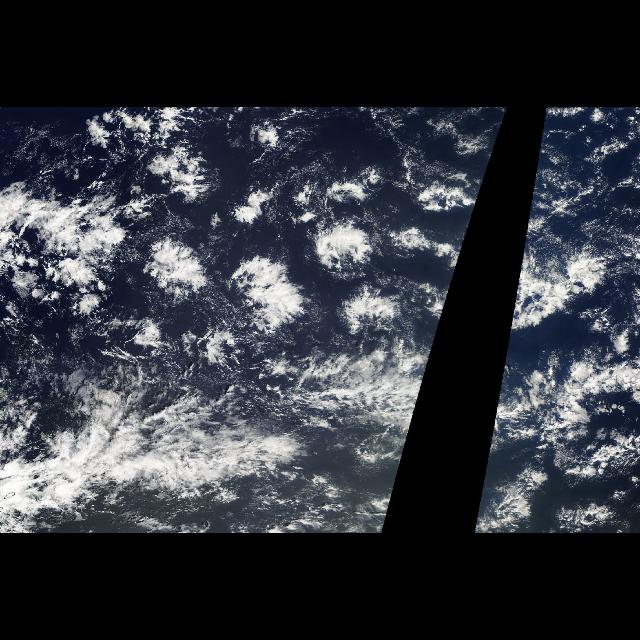Fish: (6, 343, 436, 524), (474, 343, 640, 524)
Flower: (34, 126, 482, 344)
Gravel: (92, 300, 390, 436)
Sugar: (118, 193, 480, 394), (498, 193, 596, 394)
